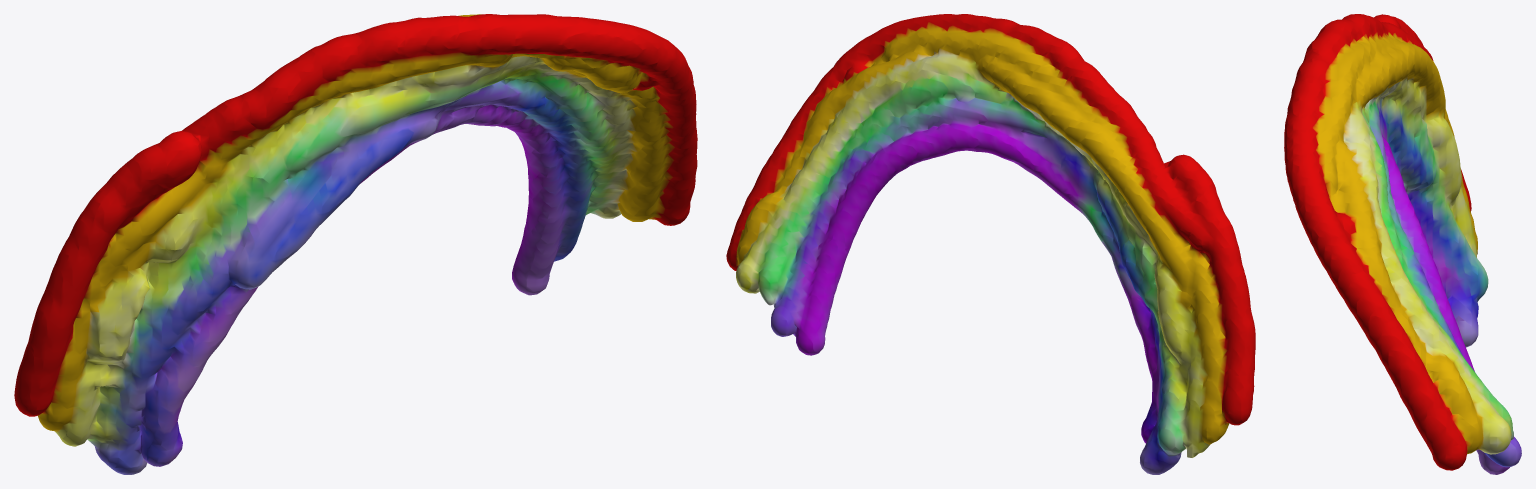
The model's file is rainbow.glb.
3 views of the same model, side by side, from view 1: azimuth 30°, elevation 25°; view 2: azimuth 150°, elevation 25°; view 3: azimuth 270°, elevation 25° (orthographic). The views are drawn at different scales.
Visible parts, largest first — view 1: Object_2; view 2: Object_2; view 3: Object_2.
Boxes of the visible parts, x1,y1,x2,y2 form: Object_2: (14,14,697,474); Object_2: (726,14,1255,474); Object_2: (1284,14,1521,474).
Size of the model in its own units: 66.5 by 43.24 by 22.82.
